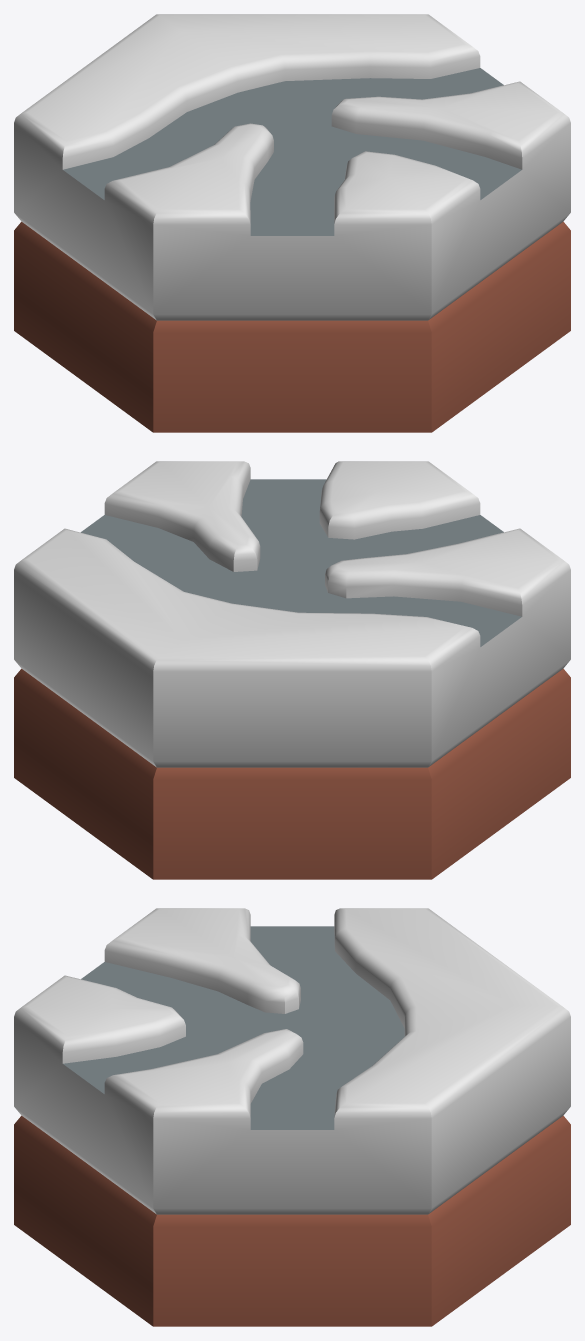
File: hex_snow_roadK_detail.gltf.glb
3 renders of one model, top to bottom at view 1: azimuth 30°, elevation 25°; view 2: azimuth 150°, elevation 25°; view 3: azimuth 270°, elevation 25°, orthographic.
Visible parts, largest first — view 1: hex_snow_roadK_detail; view 2: hex_snow_roadK_detail; view 3: hex_snow_roadK_detail.
Boxes of the visible parts, box(x1,y1,x2,y2) form: hex_snow_roadK_detail: box(14, 14, 570, 432); hex_snow_roadK_detail: box(14, 461, 570, 879); hex_snow_roadK_detail: box(14, 908, 570, 1326).
Size of the model in its own units: 2 by 1 by 2.31.
